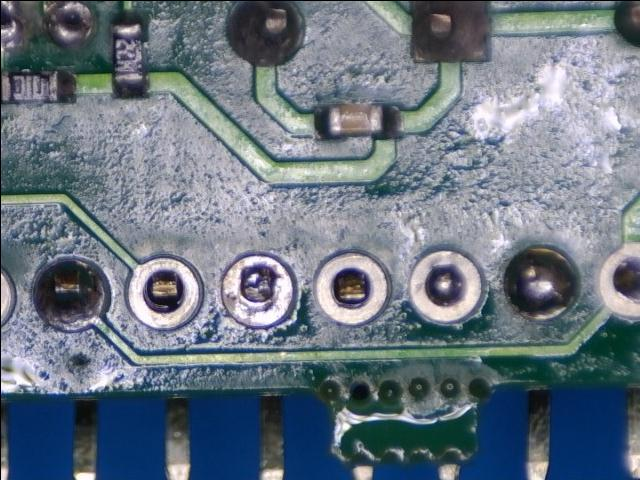Dry_joint: (505, 248, 577, 320), (221, 256, 293, 325), (410, 252, 481, 321)
